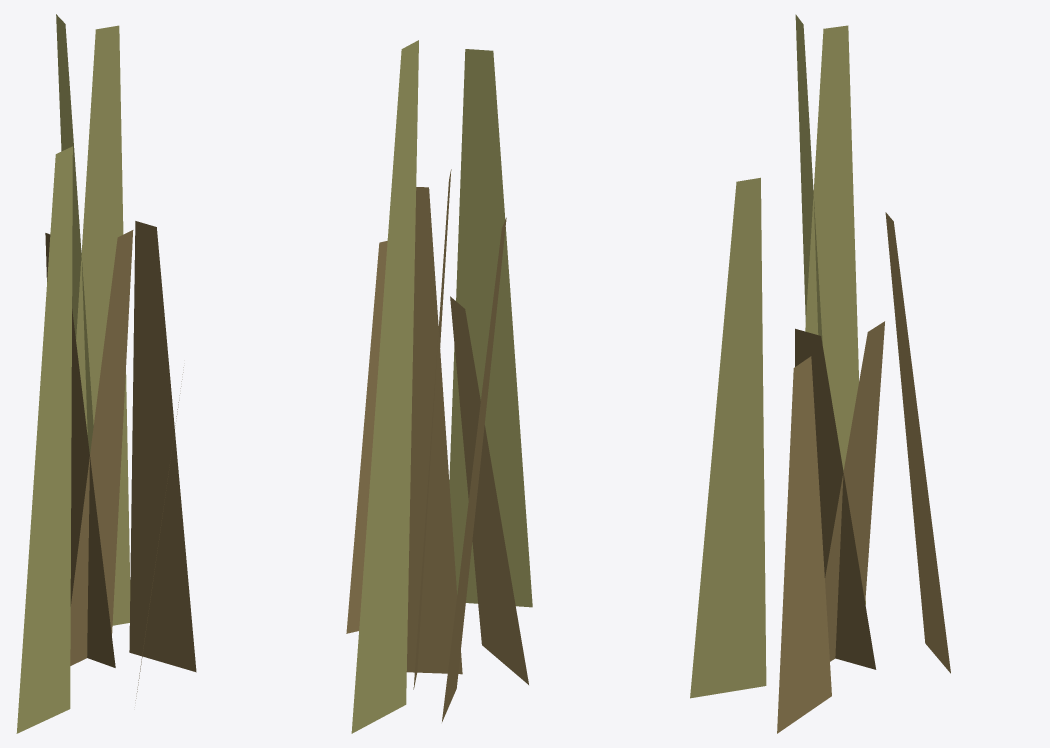
Rendered from nong.su@subadult__autumn.glb.
3 renders of one model, left to right at view 1: azimuth 30°, elevation 25°; view 2: azimuth 150°, elevation 25°; view 3: azimuth 270°, elevation 25°, orthographic. The views are drawn at different scales.
Visible parts, largest first — view 1: nong.su@subadult__autumn; view 2: nong.su@subadult__autumn; view 3: nong.su@subadult__autumn.
Boxes of the visible parts, x1,y1,x2,y2 form: nong.su@subadult__autumn: [16, 14, 196, 733]; nong.su@subadult__autumn: [346, 40, 532, 733]; nong.su@subadult__autumn: [690, 14, 950, 733].
Bounding box in the file's own units: 0.2597 × 0.5438 × 0.27.
